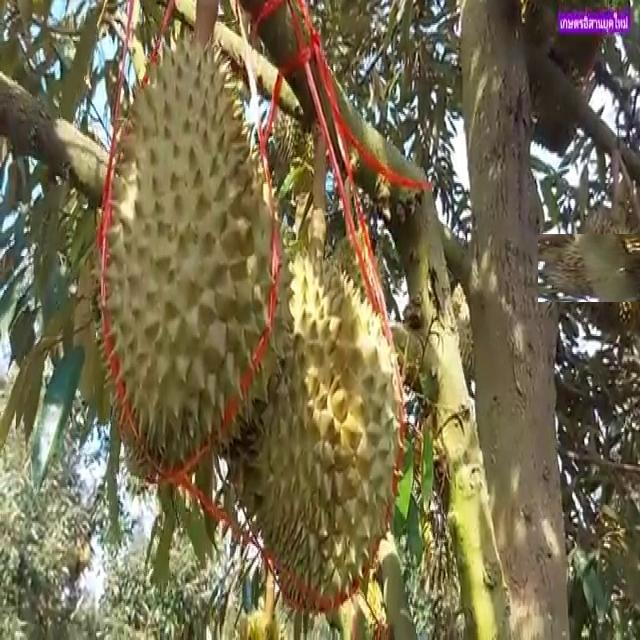durian: (87, 21, 300, 482), (219, 236, 409, 620), (553, 216, 640, 318)
